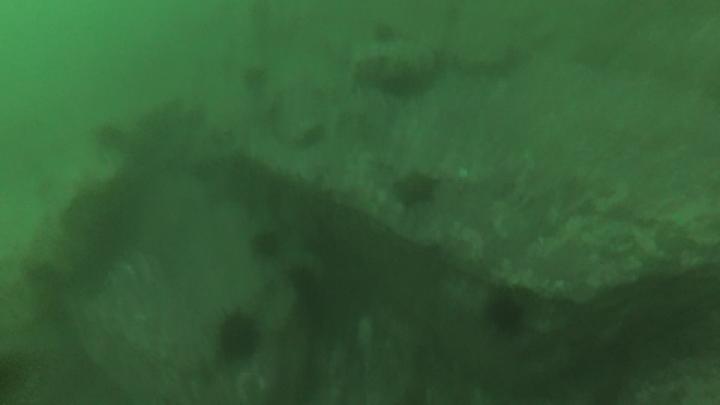echinus: (219, 314, 259, 360), (489, 298, 525, 335), (254, 234, 282, 257)
starfish: (395, 173, 437, 207)
